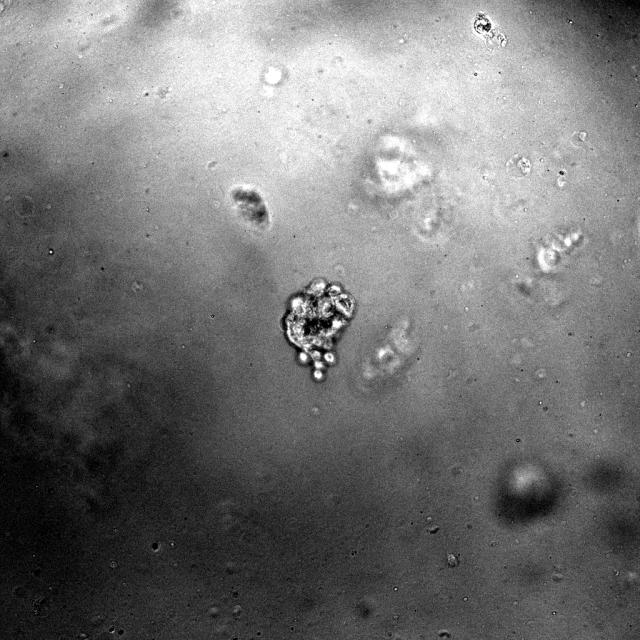organoid: (282, 278, 354, 381)
